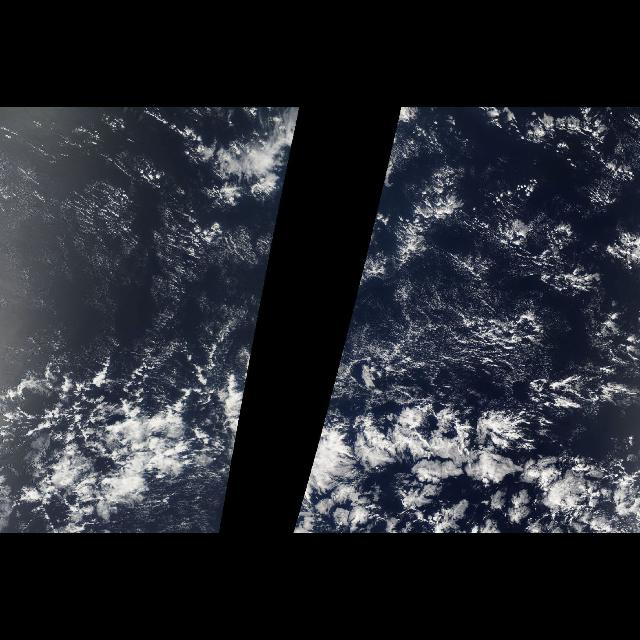Flower: (295, 398, 635, 528), (5, 182, 227, 360)
Sugar: (2, 184, 270, 372), (333, 213, 584, 405)
